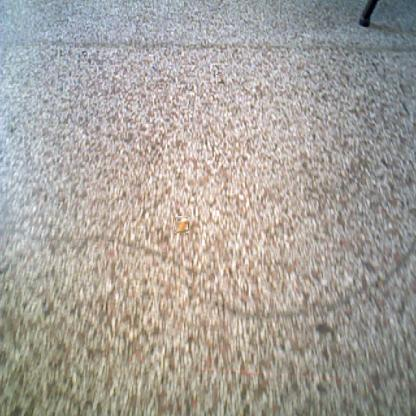dirty: (174, 217, 189, 232), (216, 74, 225, 84)
